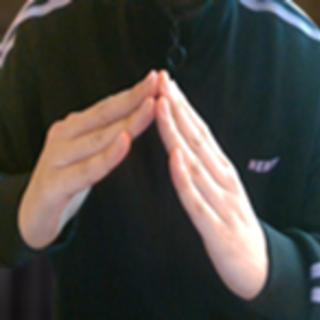HOME: (18, 66, 266, 298)
